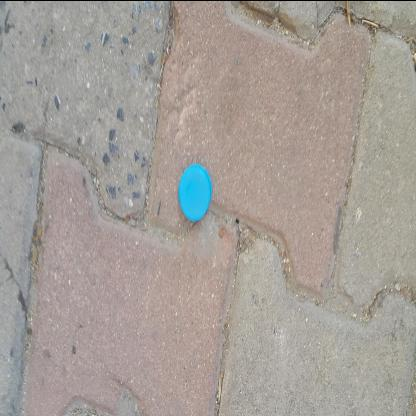plastik: (195, 179, 255, 214)
